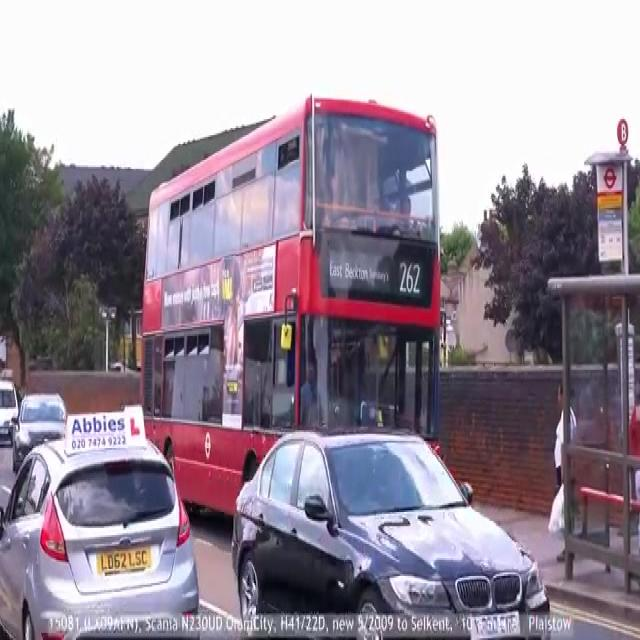bus: (138, 94, 442, 537)
